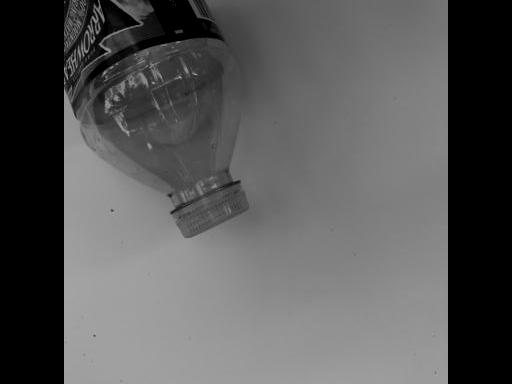bottle: (64, 0, 251, 239)
